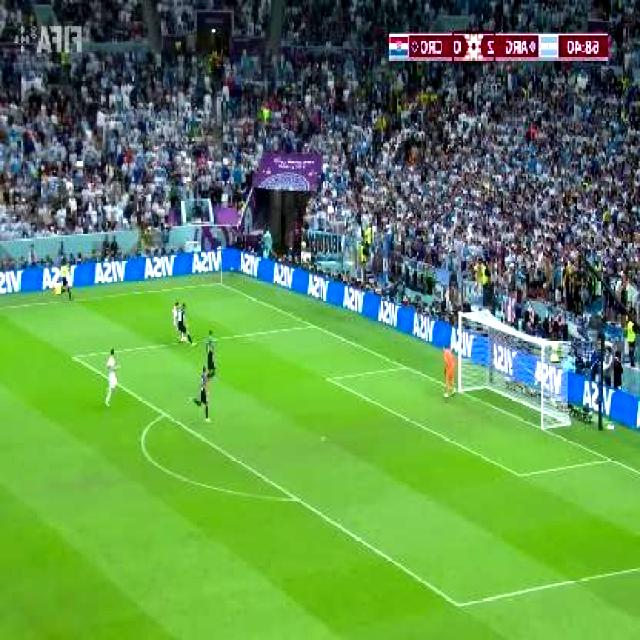bigarea_bottom_inner: (449, 591, 471, 617)
bigarea_top_inner: (66, 344, 85, 368)
bigarea_top_outter: (306, 315, 322, 334)
bottom_arc_area_intersection: (286, 486, 306, 508)
corner: (212, 276, 230, 290)
smallarea_bottom_inner: (511, 462, 531, 488)
smallarea_bottom_outter: (602, 448, 620, 469)
smallarea_top_inner: (322, 369, 338, 388)
smallarea_top_outter: (398, 357, 414, 375)
top_arc_area_intersection: (157, 402, 174, 423)
